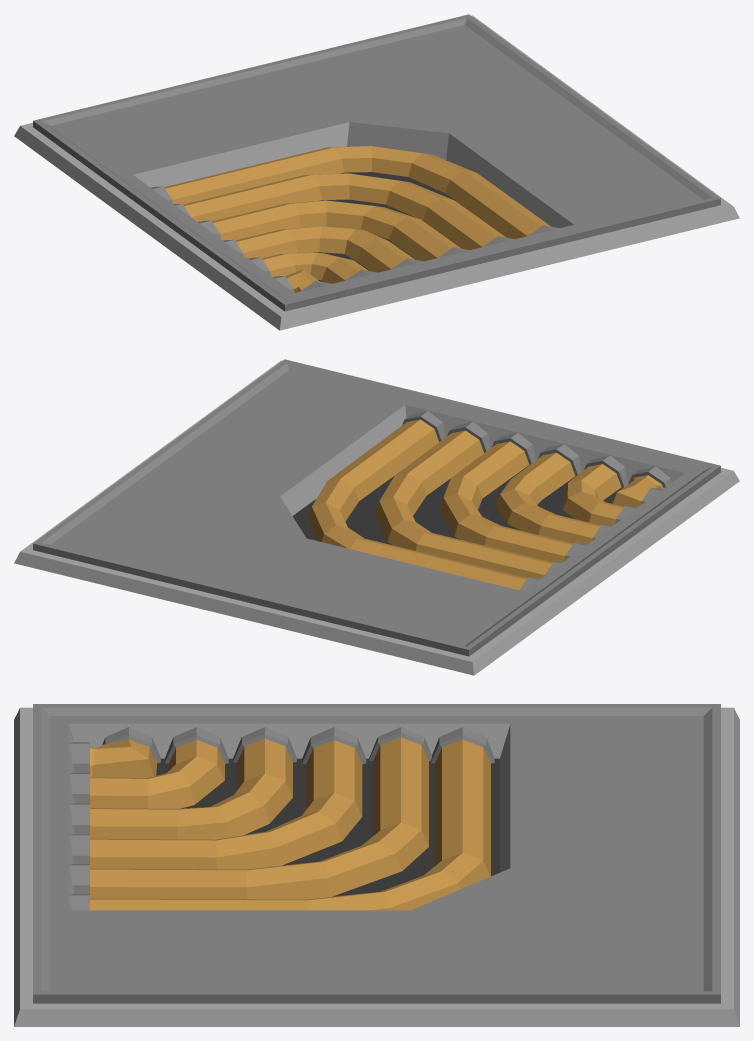
The model's file is RoofTile_Corner_Pipes.fbx.
3 renders of one model, top to bottom at view 1: azimuth 30°, elevation 25°; view 2: azimuth 150°, elevation 25°; view 3: azimuth 270°, elevation 25°, orthographic. The views are drawn at different scales.
Parts seen in each view (by area): view 1: RoofTile_Corner_Pipes; view 2: RoofTile_Corner_Pipes; view 3: RoofTile_Corner_Pipes.
Boxes of the visible parts, <box> form: RoofTile_Corner_Pipes: <box>14,14,739,330</box>; RoofTile_Corner_Pipes: <box>14,359,739,675</box>; RoofTile_Corner_Pipes: <box>14,704,739,1026</box>.
Size of the model in its own units: 2 by 0.1147 by 2.
